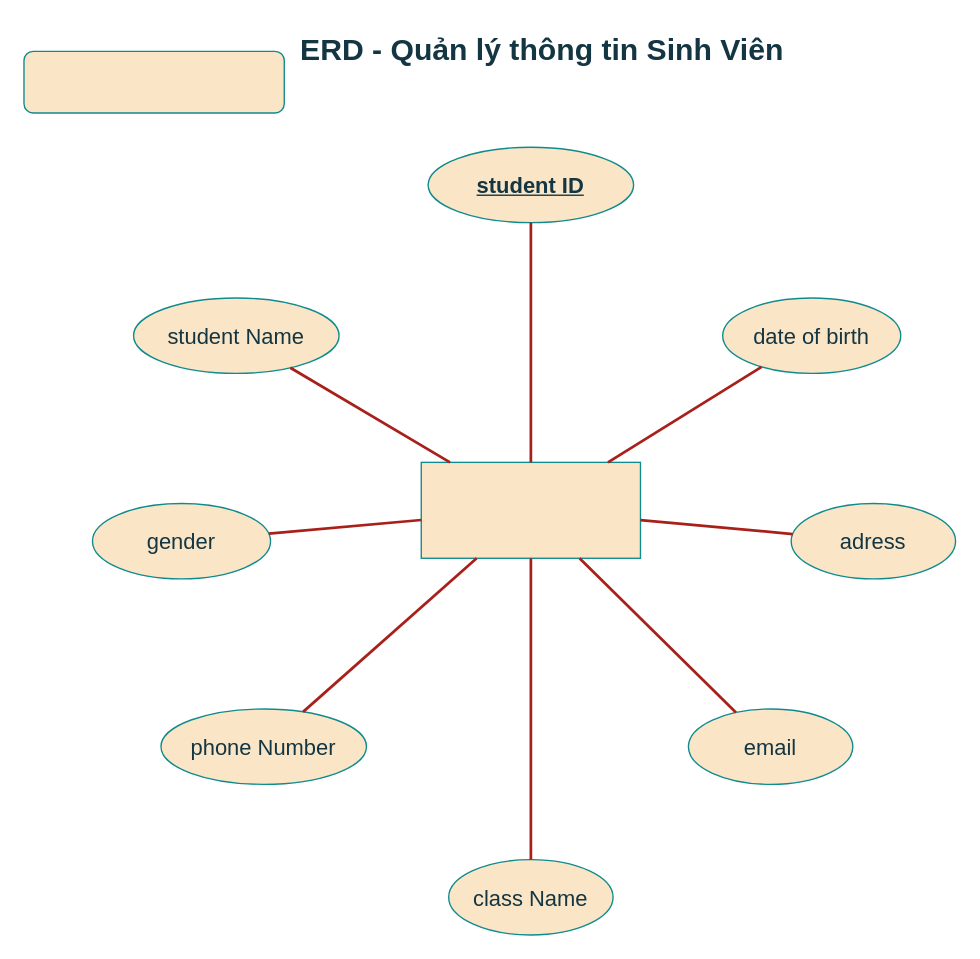
Image size: 980x959. Some labels were removed from this diagram. The centre of each missing label's shape, as x and y in pixels:
"Khóa chính: student ID" belongs at (153,81).
"SinhVien" belongs at (530,509).
